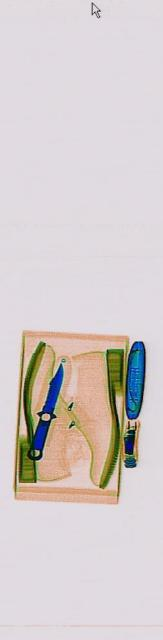Knife: (24, 339, 65, 486)
